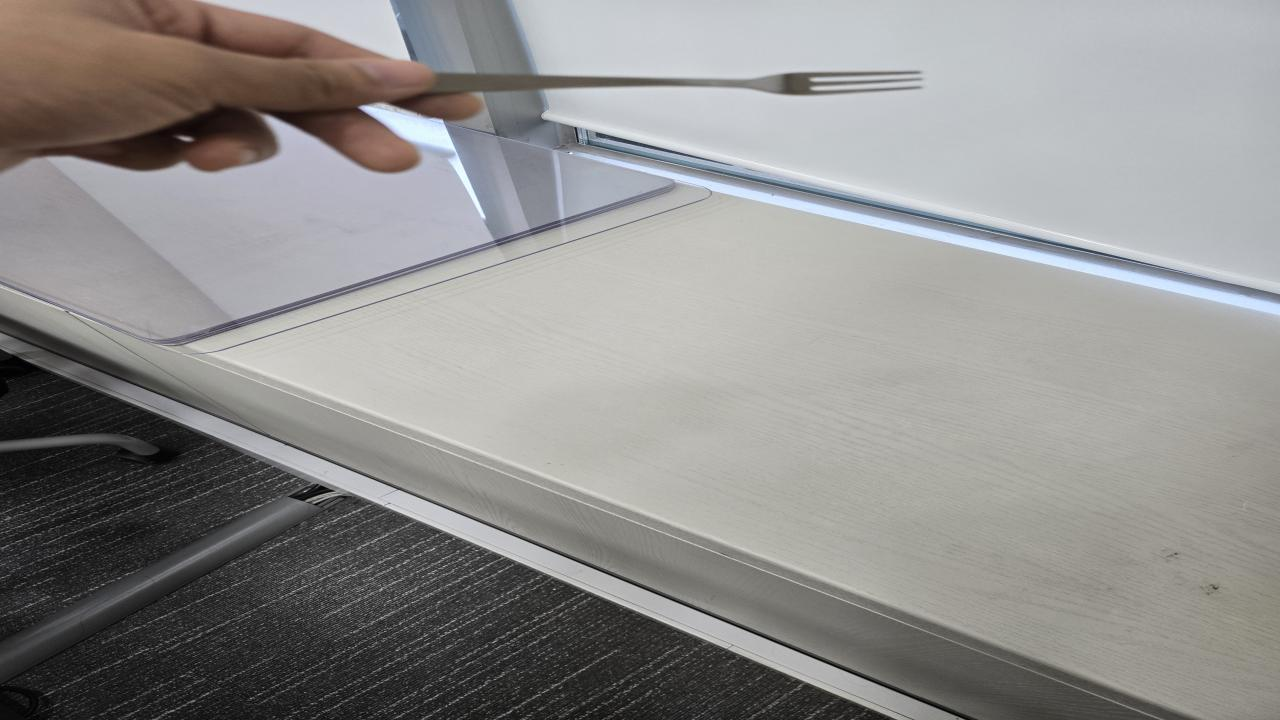fork: (431, 70, 926, 96)
